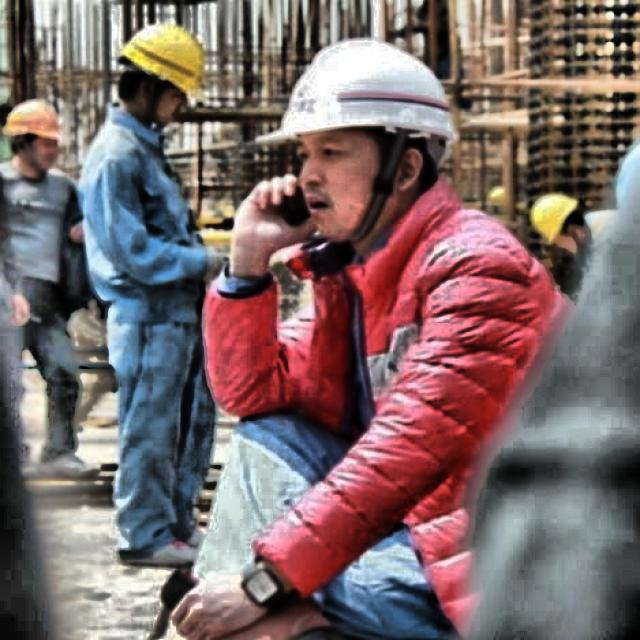helmet: (262, 15, 468, 242), (106, 11, 213, 130), (528, 187, 598, 262), (4, 95, 63, 173)
